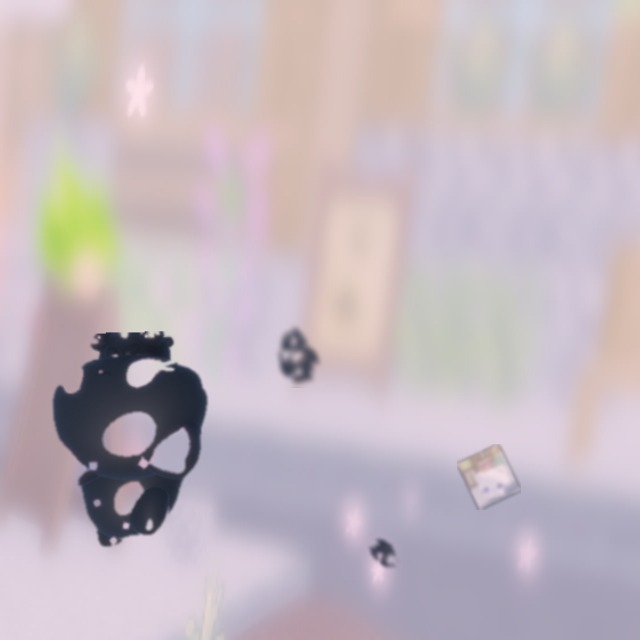urso_branco: (457, 444, 521, 510)
urso_preto: (35, 329, 219, 564), (268, 321, 327, 388), (362, 530, 407, 579)
